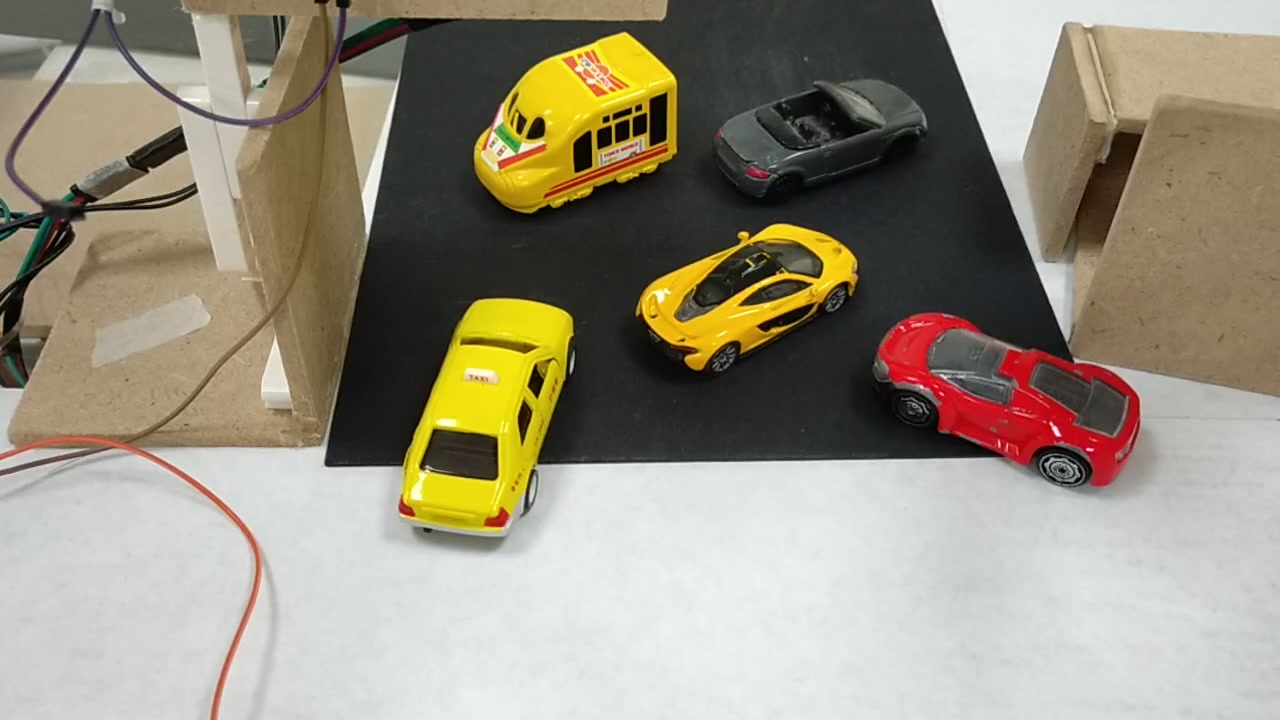car: (877, 312, 1139, 497), (399, 302, 578, 533), (643, 223, 857, 375), (705, 70, 930, 198)
